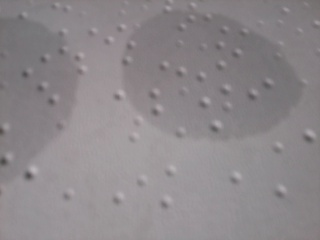Water_detected: (0, 63, 98, 240), (152, 31, 264, 122)
